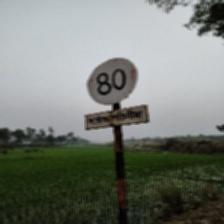Speed-limit: (84, 56, 148, 130)
